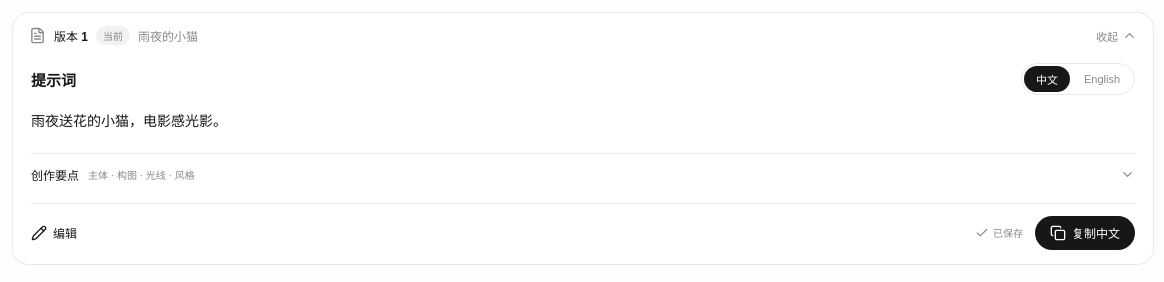
Test case: version-specific creation result › suppresses old revision feedback when refreshed output has changed
Click the button "复制中文" at [1085, 233], box top-left (1035, 216), bottom-right (1135, 250)
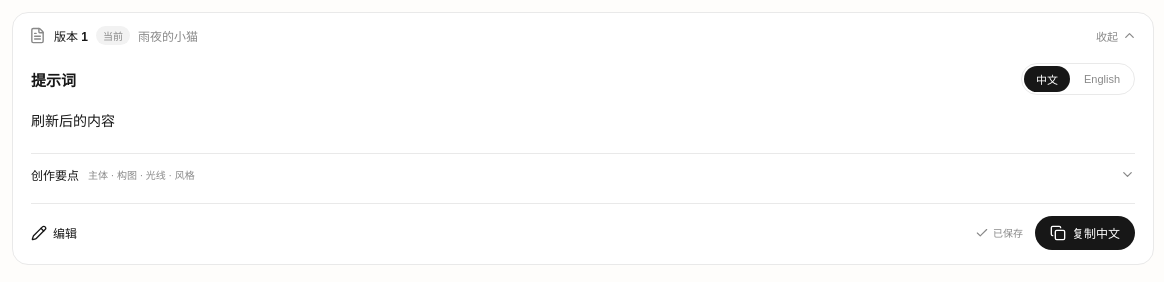
Expected: the text "刷新后的内容" is shown, top-left (31, 113), bottom-right (115, 129)
